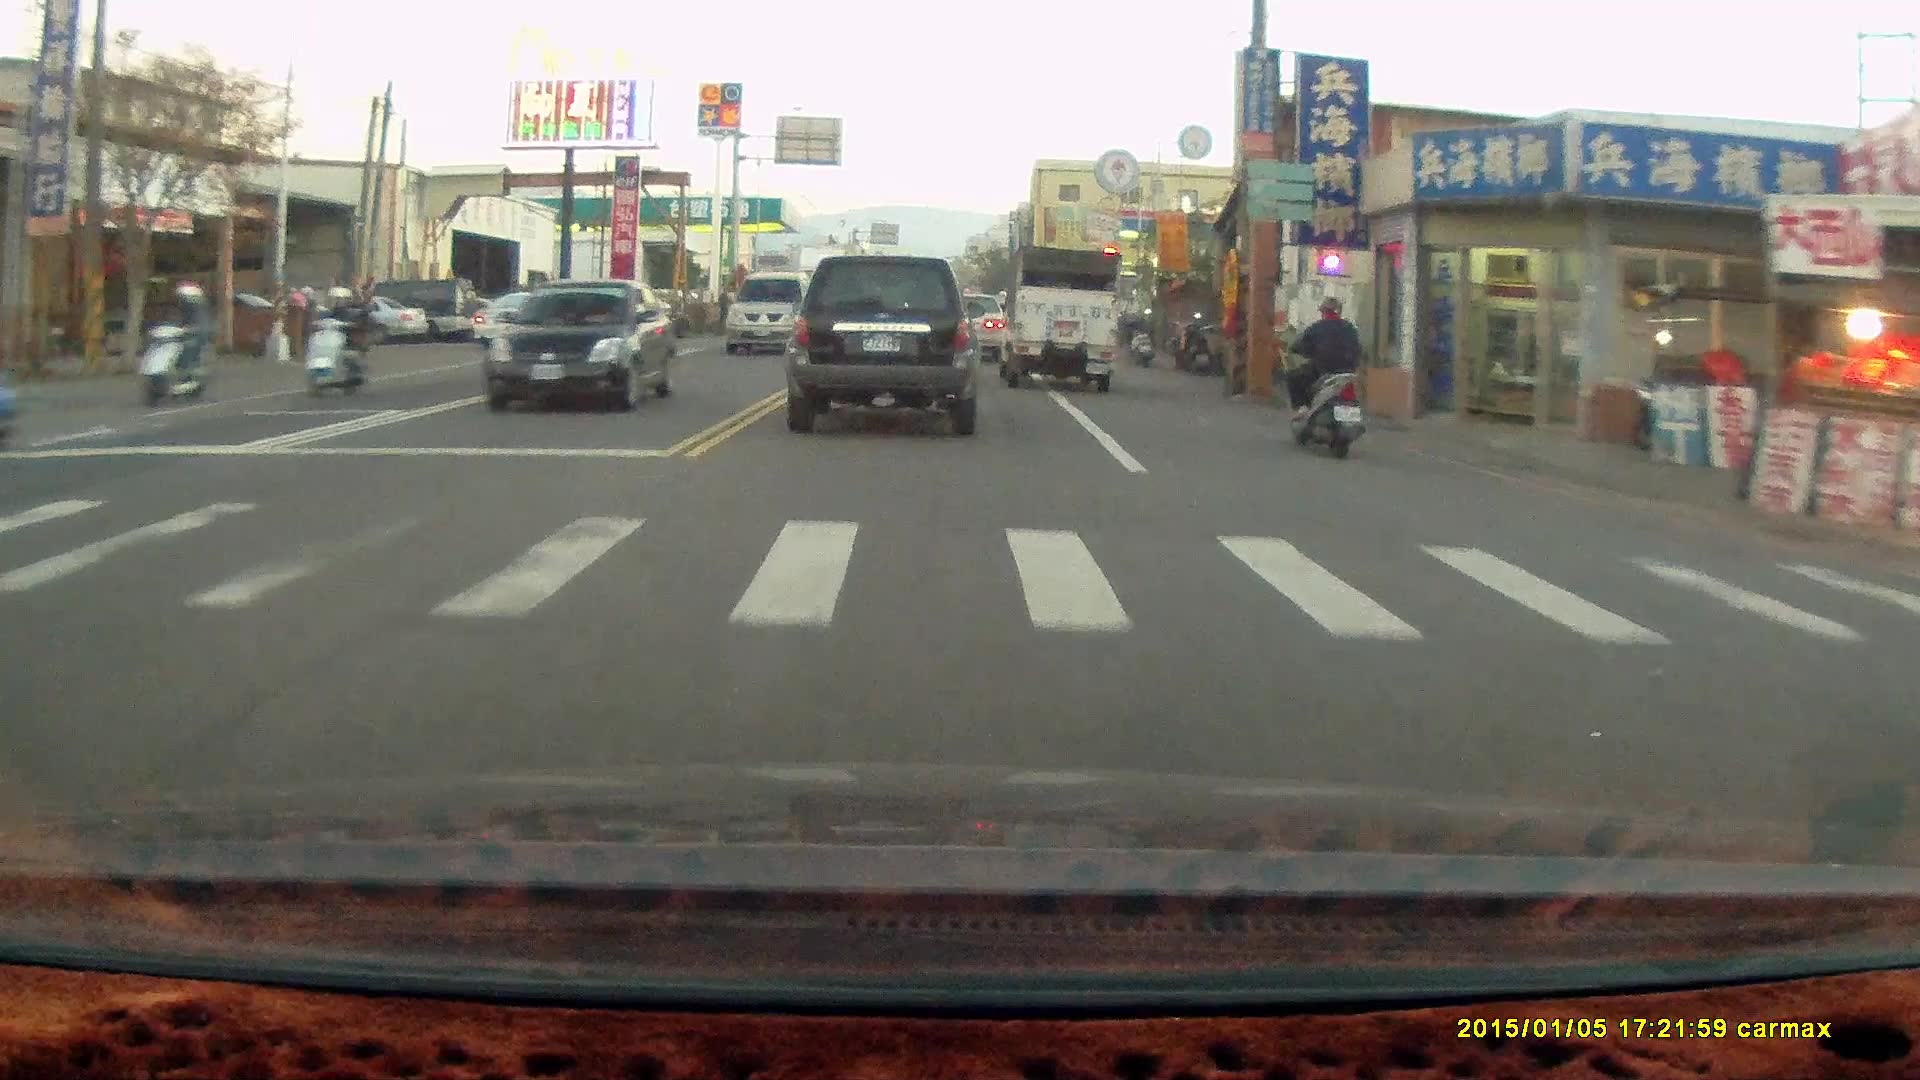rider: (1274, 278, 1366, 445), (134, 276, 214, 406), (297, 279, 374, 395)
vehicle: (783, 254, 983, 435), (487, 278, 680, 411), (994, 244, 1119, 393), (722, 269, 820, 355), (482, 289, 597, 352), (936, 290, 1008, 363)
